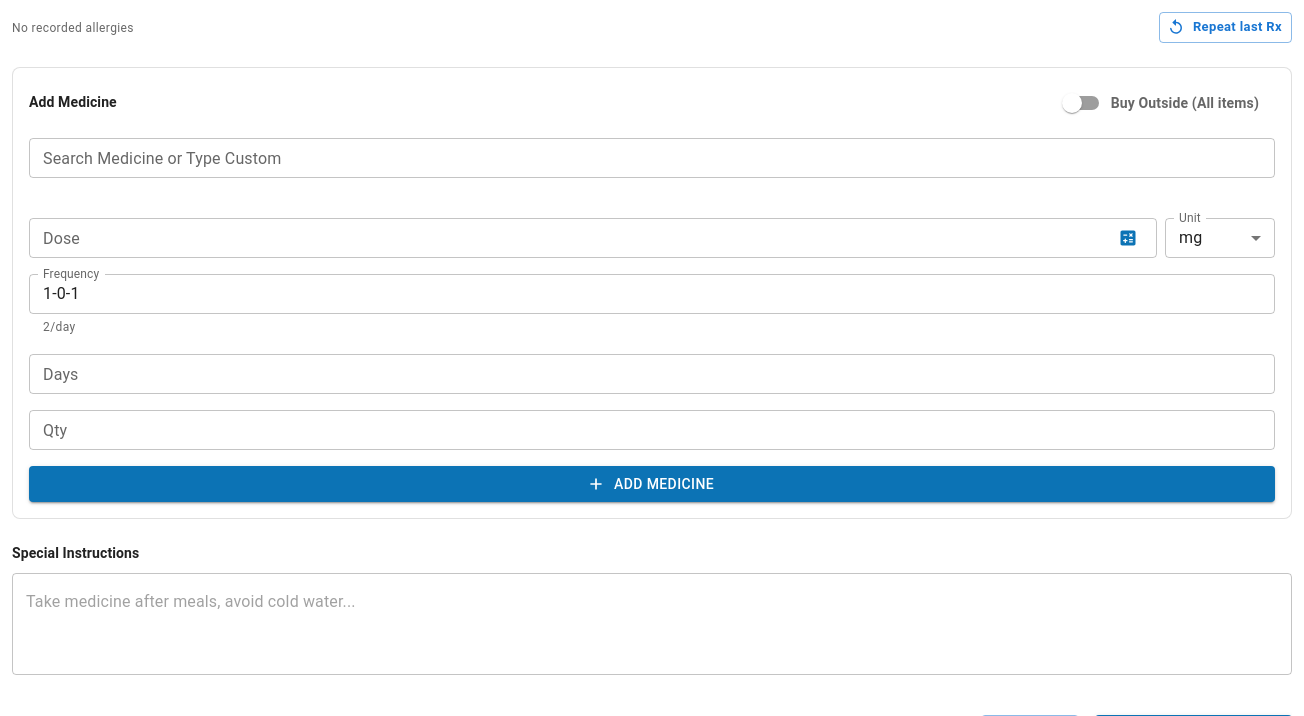
Test: PrescriptionWriter medicine picker › still warns when the doctor types something the catalogue lacks
Type "Zzqqx" into the dropdown labelled "Search Medicine or Type Custom" at (650,158), box [35,144,1266,172]
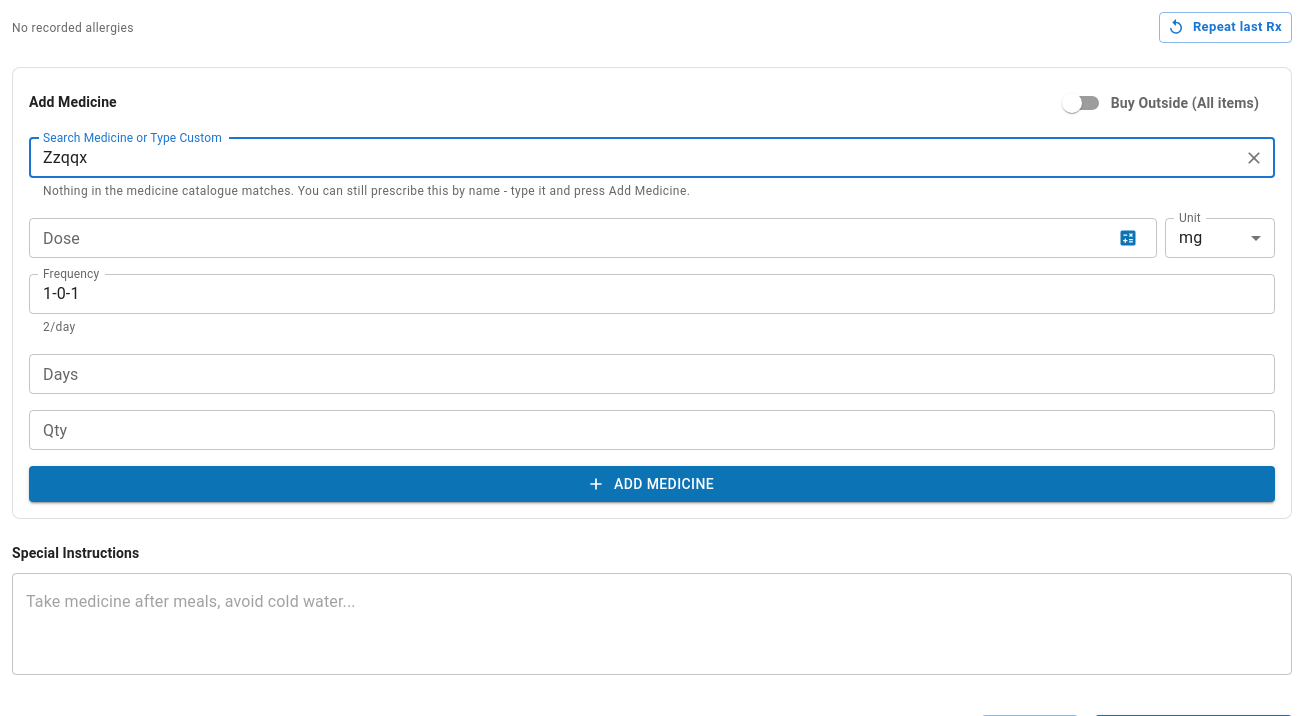
Expected: the text "Nothing in the medicine catalogue matches" is shown, [43,184,690,198]
